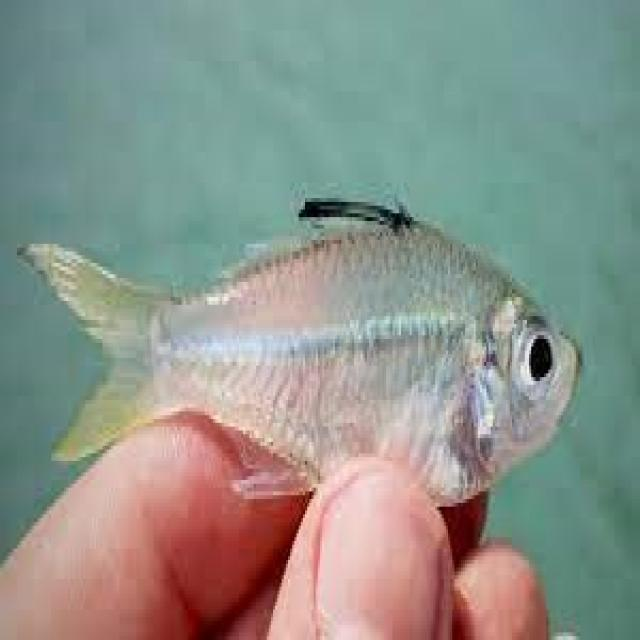Glass-Perchlet: (5, 104, 603, 542)
